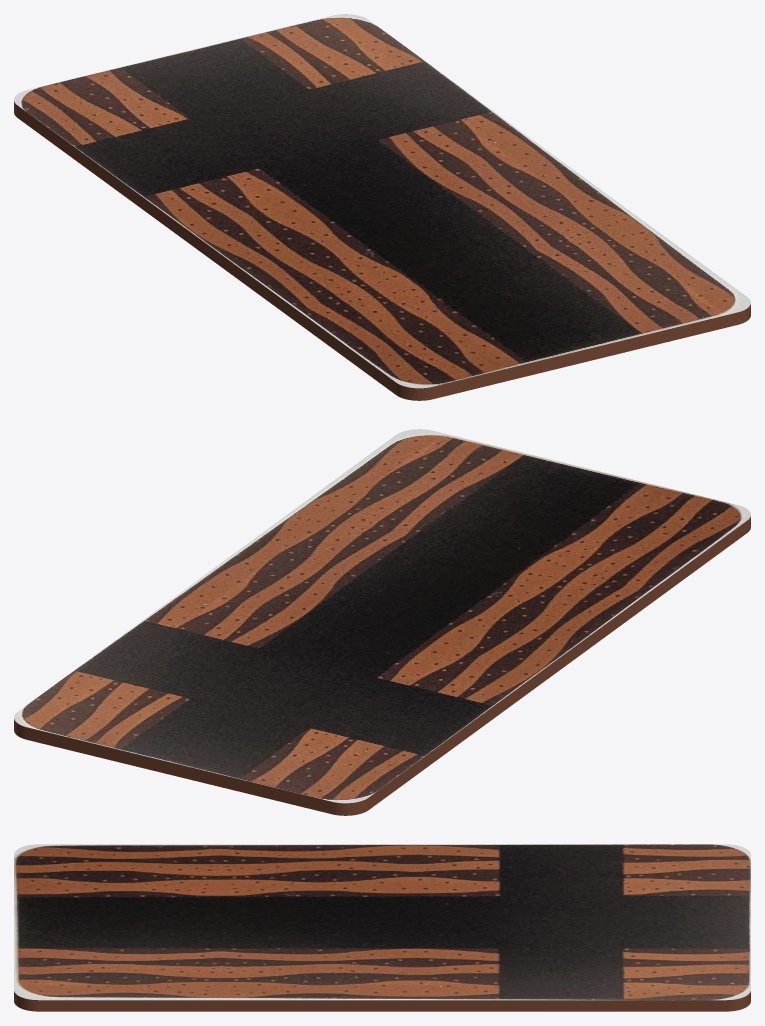
The picture shows the model from 3 angles, top to bottom: view 1: azimuth 30°, elevation 25°; view 2: azimuth 150°, elevation 25°; view 3: azimuth 270°, elevation 25°; orthographic projection. The views are drawn at different scales.
Visible parts, largest first — view 1: g11; view 2: g11; view 3: g11.
Boxes of the visible parts, <box> form: g11: <box>14,14,750,400</box>; g11: <box>14,429,750,815</box>; g11: <box>14,844,750,1011</box>.
Size of the model in its own units: 0.044 by 0.0015 by 0.088.
Materials: 3 (2 with a texture image).
